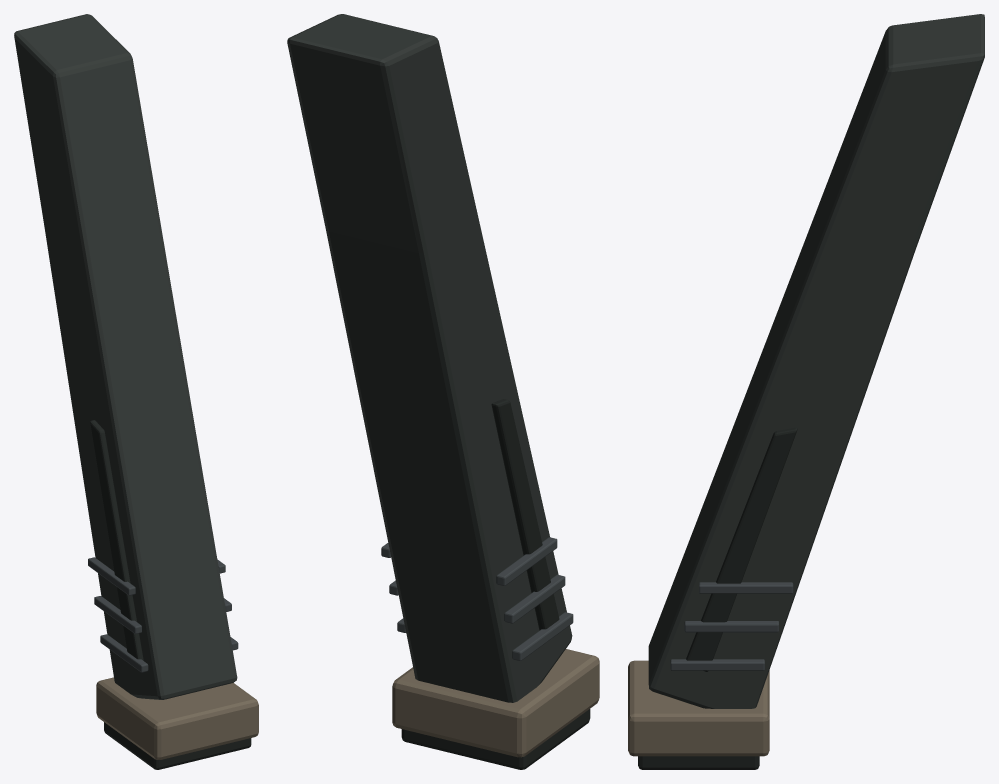
Rendered from extmag.glb.
3 views of the same model, side by side, from view 1: azimuth 30°, elevation 25°; view 2: azimuth 150°, elevation 25°; view 3: azimuth 270°, elevation 25° (orthographic). The views are drawn at different scales.
Visible parts, largest first — view 1: extmag_Extended_shell, extmag_Bronze_floorplate, extmag_rubber, extmag_metal; view 2: extmag_Extended_shell, extmag_Bronze_floorplate, extmag_rubber, extmag_metal; view 3: extmag_Extended_shell, extmag_Bronze_floorplate, extmag_rubber, extmag_metal.
Boxes of the visible parts, left/top/right/bottom form: extmag_Extended_shell: left=14, top=14, right=237, bottom=699; extmag_Bronze_floorplate: left=96, top=677, right=258, bottom=759; extmag_rubber: left=90, top=420, right=251, bottom=769; extmag_metal: left=88, top=557, right=238, bottom=672; extmag_Extended_shell: left=287, top=14, right=572, bottom=702; extmag_Bronze_floorplate: left=392, top=649, right=599, bottom=757; extmag_rubber: left=401, top=399, right=590, bottom=769; extmag_metal: left=381, top=537, right=573, bottom=660; extmag_Extended_shell: left=648, top=14, right=984, bottom=708; extmag_Bronze_floorplate: left=628, top=660, right=769, bottom=756; extmag_rubber: left=638, top=427, right=797, bottom=769; extmag_metal: left=670, top=582, right=793, bottom=670.
Size of the model in its own units: 0.029 by 0.1663 by 0.0756.
